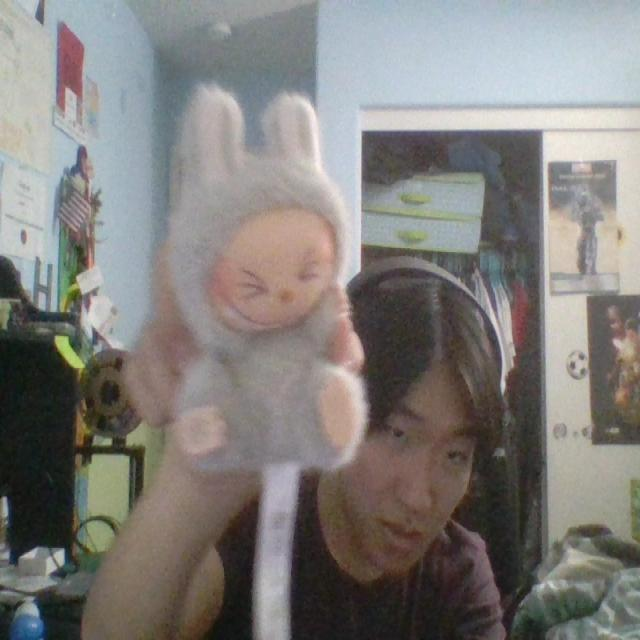labubu: (149, 84, 367, 471)
